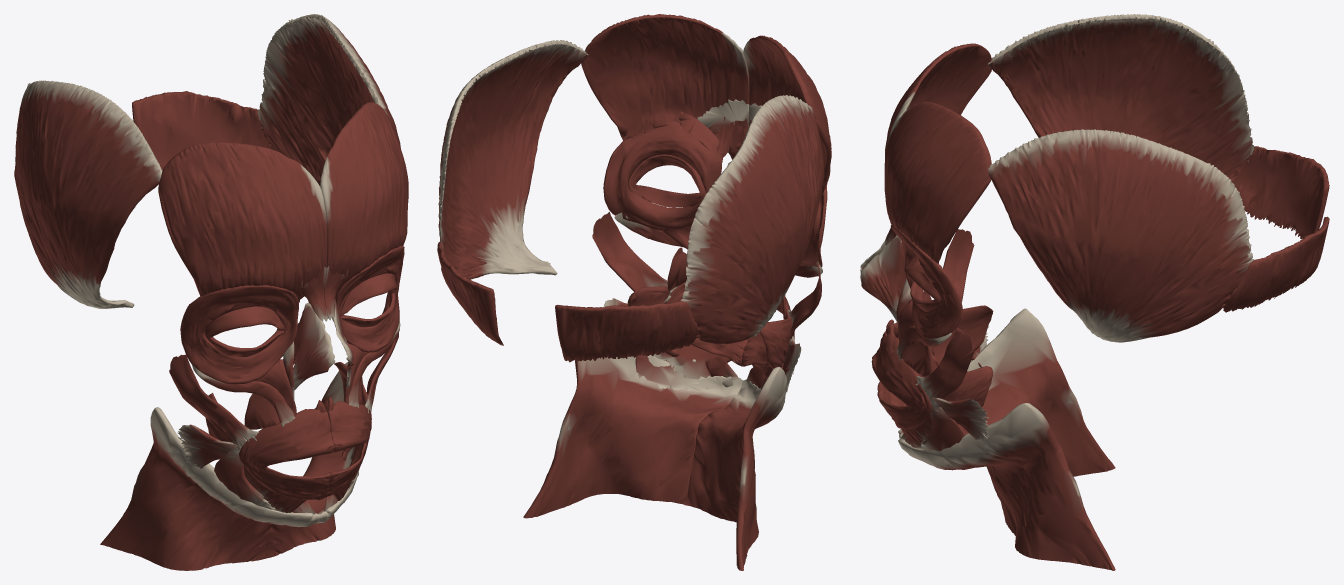
The model's file is musculo_expressao.glb.
The picture shows the model from 3 angles, left to right: view 1: azimuth 30°, elevation 25°; view 2: azimuth 150°, elevation 25°; view 3: azimuth 270°, elevation 25°; orthographic projection. The views are drawn at different scales.
Parts seen in each view (by area): view 1: Temporoparietalis muscle.r, Frontalis muscle.r, Platysma.r, Temporoparietalis muscle.l, Frontalis muscle.l, Orbital part of orbicularis oculi.r, Occipitalis muscle.l, Orbicularis oris muscle.r, Platysma.l, Orbital part of orbicularis oculi.l, Orbicularis oris muscle.l, Zygomaticus major muscle.r (+13 smaller); view 2: Temporoparietalis muscle.r, Temporoparietalis muscle.l, Platysma.l, Frontalis muscle.l, Platysma.r, Occipitalis muscle.r, Orbital part of orbicularis oculi.l, Frontalis muscle.r, Zygomaticus major muscle.l, Occipitalis muscle.l, Palpebral part of orbicularis oculi.l, Procerus muscle.l (+13 smaller); view 3: Temporoparietalis muscle.l, Temporoparietalis muscle.r, Platysma.l, Frontalis muscle.l, Platysma.r, Occipitalis muscle.r, Frontalis muscle.r, Occipitalis muscle.l, Orbicularis oris muscle.l, Orbital part of orbicularis oculi.l, Nasalis muscle.l, Zygomaticus major muscle.l (+8 smaller).
Boxes of the visible parts, <box> form: Temporoparietalis muscle.r: <box>15,80,162,308</box>; Frontalis muscle.r: <box>158,142,327,298</box>; Platysma.r: <box>100,407,320,570</box>; Temporoparietalis muscle.l: <box>257,14,400,185</box>; Frontalis muscle.l: <box>320,102,408,289</box>; Orbital part of orbicularis oculi.r: <box>180,285,298,384</box>; Occipitalis muscle.l: <box>132,91,271,170</box>; Orbicularis oris muscle.r: <box>239,409,334,500</box>; Platysma.l: <box>265,362,363,558</box>; Orbital part of orbicularis oculi.l: <box>335,245,404,352</box>; Orbicularis oris muscle.l: <box>320,401,371,499</box>; Zygomaticus major muscle.r: <box>169,354,258,452</box>; Temporoparietalis muscle.r: <box>681,95,824,344</box>; Temporoparietalis muscle.l: <box>438,40,588,279</box>; Platysma.l: <box>523,355,742,518</box>; Frontalis muscle.l: <box>581,14,749,157</box>; Platysma.r: <box>684,367,786,570</box>; Occipitalis muscle.r: <box>555,301,697,362</box>; Orbital part of orbicularis oculi.l: <box>603,121,721,230</box>; Frontalis muscle.r: <box>743,35,831,190</box>; Zygomaticus major muscle.l: <box>592,211,679,296</box>; Occipitalis muscle.l: <box>437,242,503,345</box>; Palpebral part of orbicularis oculi.l: <box>628,154,705,207</box>; Procerus muscle.l: <box>697,99,748,159</box>; Temporoparietalis muscle.l: <box>988,129,1253,342</box>; Temporoparietalis muscle.r: <box>988,14,1254,181</box>; Platysma.l: <box>898,403,1115,570</box>; Frontalis muscle.l: <box>884,101,991,263</box>; Platysma.r: <box>898,308,1115,476</box>; Occipitalis muscle.r: <box>1232,146,1329,238</box>; Frontalis muscle.r: <box>884,43,991,176</box>; Occipitalis muscle.l: <box>1223,216,1329,312</box>; Orbicularis oris muscle.l: <box>872,333,931,429</box>; Orbital part of orbicularis oculi.l: <box>890,225,962,339</box>; Nasalis muscle.l: <box>860,235,906,321</box>; Zygomaticus major muscle.l: <box>915,328,974,404</box>.
Size of the model in its own units: 0.1608 by 0.2147 by 0.2048.
